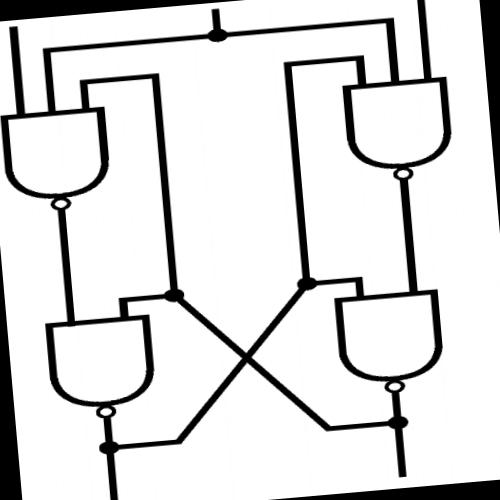nand: (326, 60, 479, 224), (322, 276, 470, 406), (31, 301, 167, 429), (0, 91, 126, 223)
